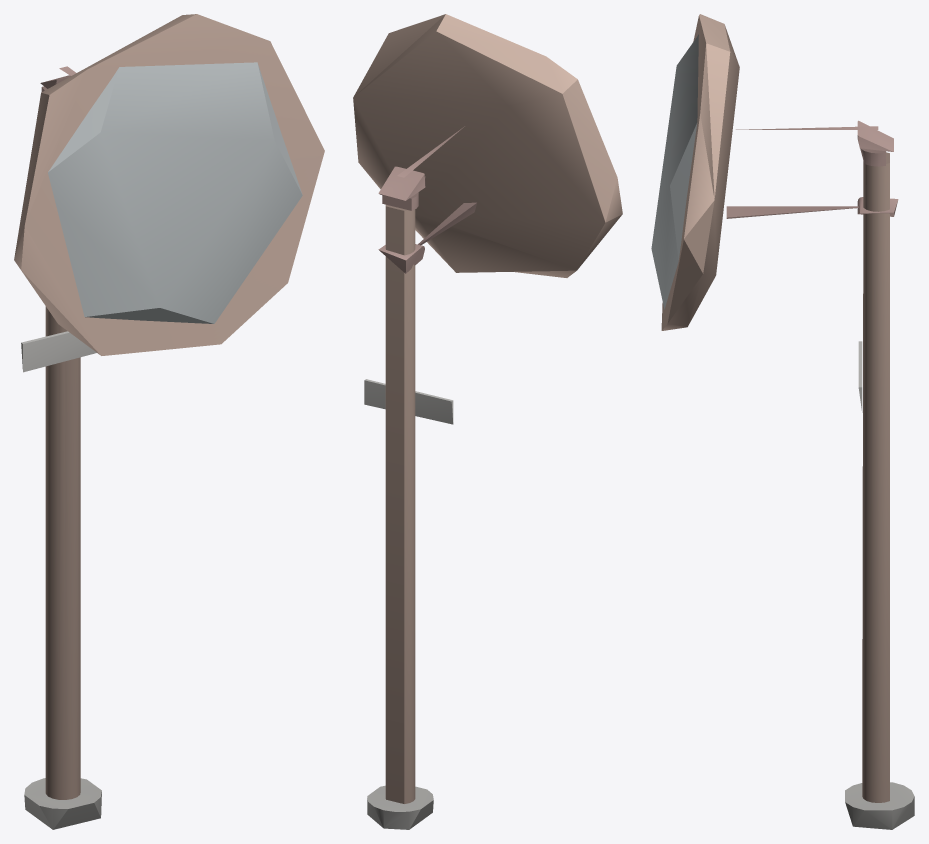
Rendered from mirror.lod2.glb.
The picture shows the model from 3 angles, left to right: view 1: azimuth 30°, elevation 25°; view 2: azimuth 150°, elevation 25°; view 3: azimuth 270°, elevation 25°; orthographic projection. The views are drawn at different scales.
Size of the model in its own units: 0.9043 by 2.42 by 0.7287.
